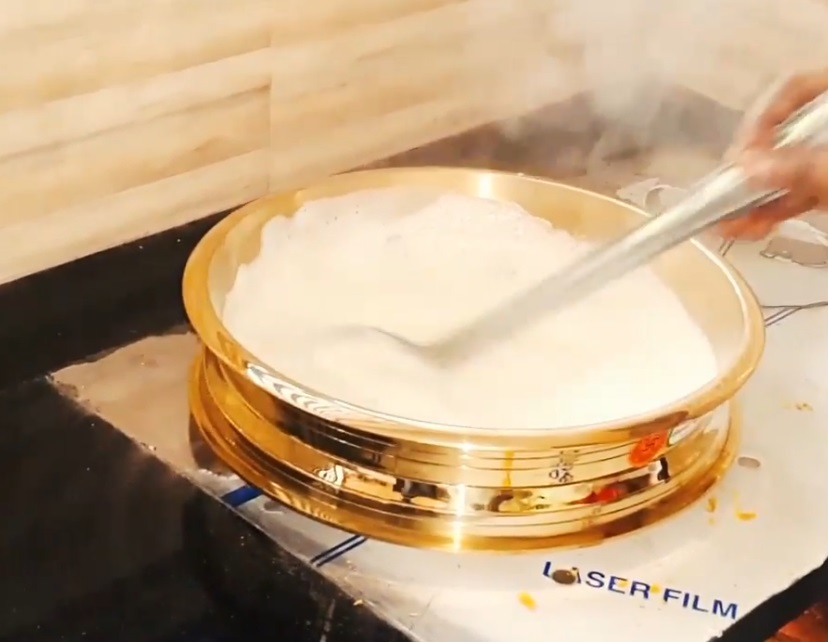Steaming: (189, 158, 774, 586)
